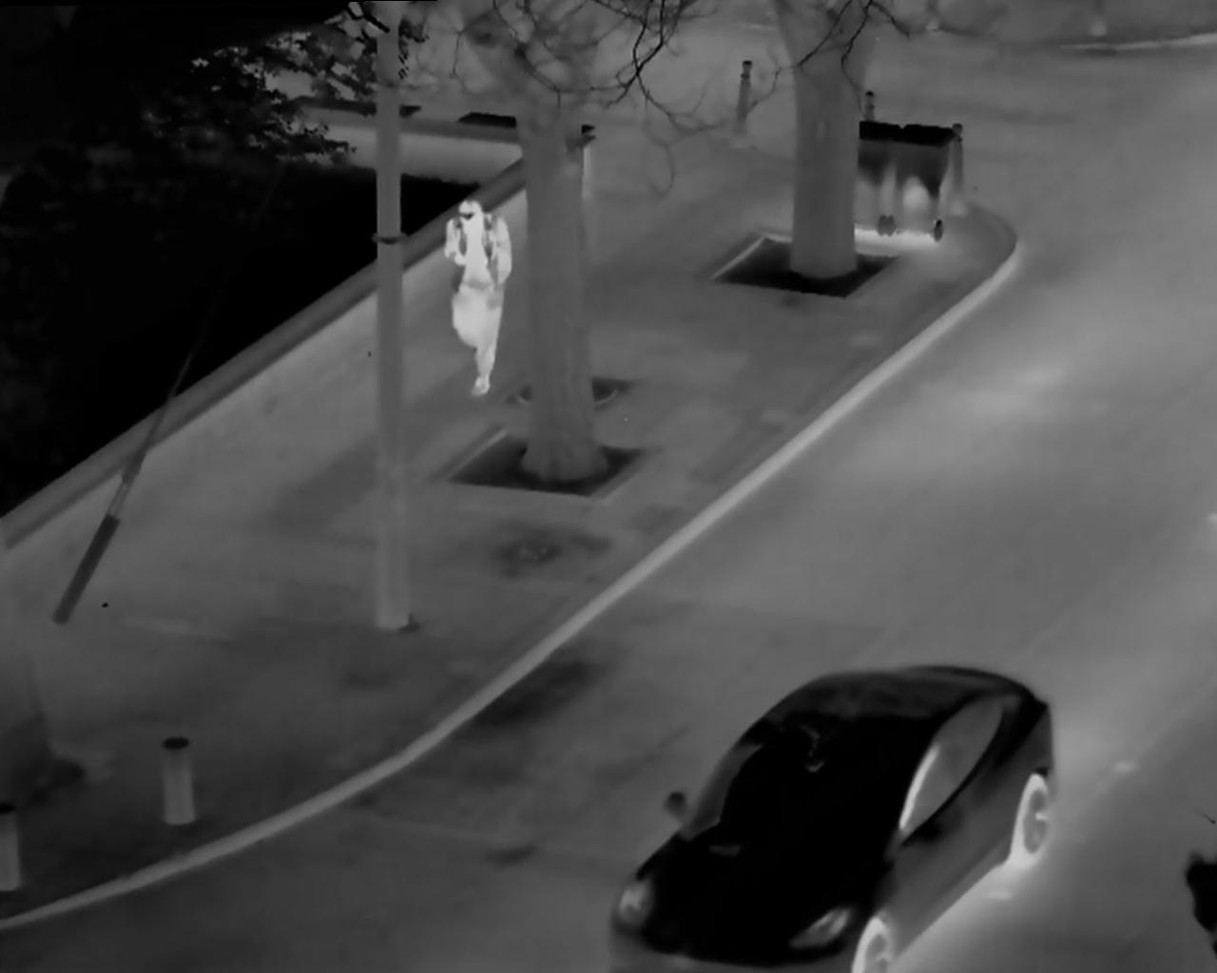person: (427, 190, 515, 411)
